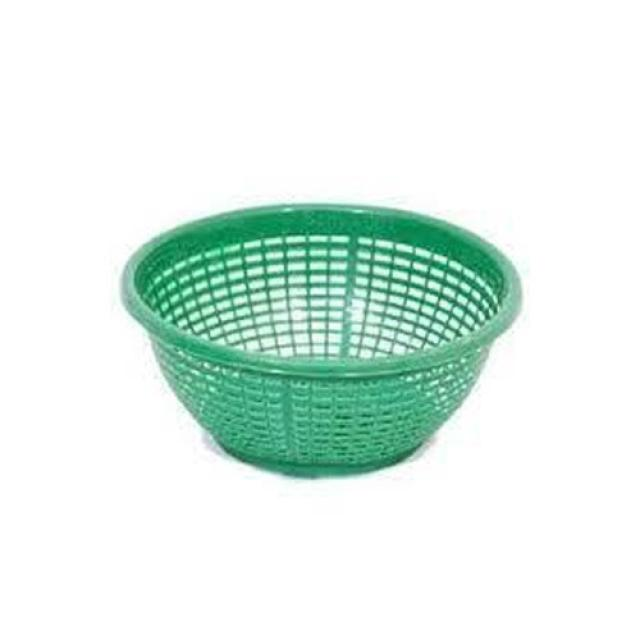basket: (123, 205, 521, 476)
